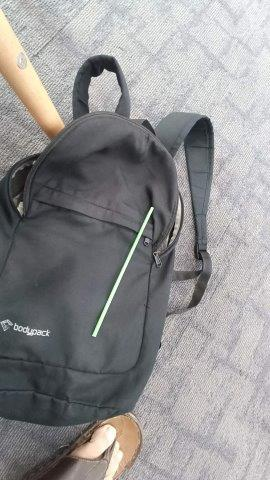sedotan: (93, 207, 153, 337)
